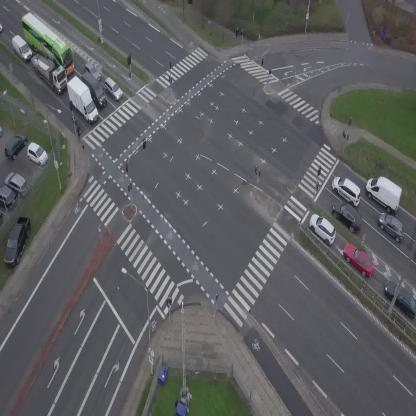bicycle: (74, 122, 82, 139), (231, 26, 240, 41)
bus: (11, 10, 84, 76)
car: (338, 238, 380, 281), (327, 196, 367, 235), (304, 209, 342, 247), (327, 173, 367, 208), (373, 208, 411, 243), (99, 75, 126, 103), (80, 60, 105, 81), (0, 23, 2, 32)
lorry: (20, 42, 76, 97), (360, 170, 409, 216), (62, 72, 101, 127), (78, 67, 110, 110), (7, 33, 36, 63)
